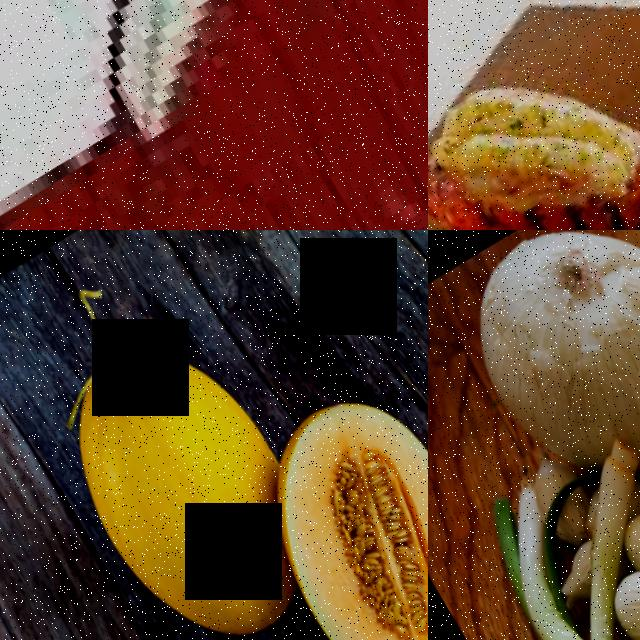lobster tails: (0, 0, 428, 230), (495, 23, 640, 230)
melon: (23, 327, 310, 640), (242, 375, 428, 640)
